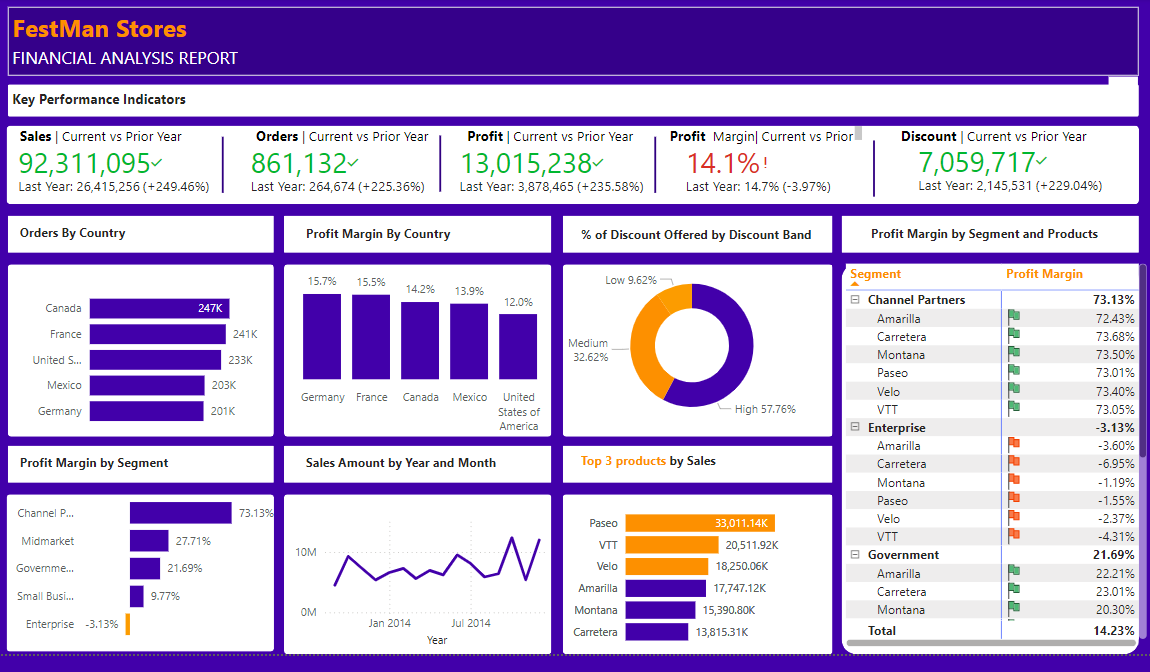

What the dashboard file says about the page in this screenshot:
{"tool":"powerbi","page":{"name":"Page 2","canvas":[1280,720],"ordinal":1},"visuals":[{"type":"shape","box":[924.9,292.3,326.6,428.1],"z":0},{"type":"textbox","box":[10,0,280,280],"z":1000},{"type":"shape","box":[9.6,9.6,1257,75.5],"z":2000},{"type":"shape","box":[9.6,94.7,1255.6,35.7],"z":3000},{"type":"shape","box":[8.2,140,1257,86.4],"z":4000},{"type":"shape","box":[9.6,292.3,292.3,189.4],"z":5000},{"type":"shape","box":[8.2,544.8,293.7,172.9],"z":6000},{"type":"shape","box":[618.9,292.3,296.4,189.4],"z":7000},{"type":"shape","box":[312.9,292.3,293.7,189.4],"z":8000},{"type":"shape","box":[312.9,544.8,293.7,175.6],"z":9000},{"type":"shape","box":[618.9,544.8,296.4,175.6],"z":10000},{"type":"shape","box":[9.6,491.3,292.3,41.2],"z":11000},{"type":"shape","box":[312.9,491.3,293.7,41.2],"z":12000},{"type":"shape","box":[9.6,238.8,292.3,41.2],"z":13000},{"type":"shape","box":[618.9,491.3,296.4,41.2],"z":14000},{"type":"shape","box":[618.9,238.8,296.4,41.2],"z":15000},{"type":"shape","box":[312.9,238.8,293.7,41.2],"z":16000},{"type":"shape","box":[924.9,238.8,340.3,41.2],"z":17000},{"type":"textbox","box":[9.6,9.6,236,48],"z":18000},{"type":"textbox","box":[9.6,48,358.1,48],"z":19000},{"type":"textbox","box":[9.6,96.1,253.9,34.3],"z":20000},{"type":"kpi","fields":{"TrendLine":["Date Table.Year"],"Goal":["Analysis.Sales Amount LY"],"Indicator":["Analysis.Sales Amount"]},"box":[8.2,141.3,255.2,97.4],"z":21000},{"type":"textbox","box":[17.8,135.8,295,32.9],"z":22000},{"type":"shape","box":[171.5,152.3,148.2,61.7],"z":23000},{"type":"kpi","fields":{"TrendLine":["Date Table.Year"],"Goal":["Analysis.Orders LY"],"Indicator":["Analysis.Orders"]},"box":[263.5,141.3,255.2,97.4],"z":24000},{"type":"kpi","fields":{"TrendLine":["Date Table.Year"],"Indicator":["Analysis.Profit"],"Goal":["Analysis.Profit LY"]},"box":[492.6,141.3,255.2,97.4],"z":25000},{"type":"kpi","fields":{"TrendLine":["Date Table.Year"],"Indicator":["Analysis.Profit Margin"],"Goal":["Analysis.Profit Margin LY"]},"box":[741,141.3,255.2,97.4],"z":26000},{"type":"kpi","fields":{"TrendLine":["Date Table.Year"],"Indicator":["Analysis.Discount offered"],"Goal":["Analysis.Discount Offered LY"]},"box":[996.2,140,255.2,97.4],"z":27000},{"type":"textbox","box":[277.2,135.8,295,32.9],"z":28000},{"type":"textbox","box":[509.1,135.8,211.3,32.9],"z":29000},{"type":"textbox","box":[985.3,135.8,295,32.9],"z":31000},{"type":"shape","box":[410.3,150.9,148.2,61.7],"z":32000},{"type":"shape","box":[646.3,152.3,148.2,61.7],"z":33000},{"type":"shape","box":[886.5,156.4,148.2,61.7],"z":34000},{"type":"barChart","fields":{"Category":["financials.Country"],"Y":["Analysis.Orders"]},"box":[17.8,306,274.4,175.6],"z":35000},{"type":"textbox","box":[17.8,242.9,253.9,34.3],"z":36000},{"type":"textbox","box":[952.3,244.3,284,34.3],"z":37000},{"type":"textbox","box":[332.1,244.3,253.9,34.3],"z":38000},{"type":"clusteredColumnChart","fields":{"Y":["Analysis.Profit Margin"],"Category":["financials.Country"]},"box":[300.5,286.8,318.4,199],"z":39000},{"type":"donutChart","fields":{"Category":["financials.Discount Band"],"Y":["Analysis.Discount offered"]},"box":[606.5,286.8,308.7,189.4],"z":40000},{"type":"barChart","fields":{"Category":["financials.Segment"],"Y":["Analysis.Profit Margin"]},"box":[1.4,528.3,308.7,189.4],"z":41000},{"type":"lineChart","fields":{"Category":["Date Table.Date.Variation.Date Hierarchy.Year","Date Table.Date.Variation.Date Hierarchy.Month"],"Y":["Analysis.Sales Amount"]},"box":[319.7,561.2,300.5,156.4],"z":42000},{"type":"barChart","fields":{"Y":["Analysis.Sales Amount"],"Category":["financials.Product"]},"box":[620.2,544.8,295,175.6],"z":43000},{"type":"textbox","box":[332.1,495.4,253.9,34.3],"z":44000},{"type":"textbox","box":[17.8,495.4,253.9,34.3],"z":45000},{"type":"textbox","box":[634,494,253.9,34.3],"z":46000},{"type":"pivotTable","fields":{"Values":["Analysis.Profit Margin"],"Rows":["financials.Segment","financials.Product"]},"box":[924.9,286.8,340.3,430.9],"z":47000},{"type":"barChart","fields":{"Y":["Analysis.Sales Amount"],"Category":["financials.Product"]},"box":[620.2,544.4,295,175.6],"z":48000},{"type":"textbox","box":[634,245.6,269,34.3],"z":49000},{"type":"textbox","box":[731.4,135.8,220.9,32.9],"z":49001}]}

Visuals, with their boxes in screenshot pixels (x1, y1, x2, y2):
shape: {"x1": 841, "y1": 260, "x2": 1141, "y2": 653}
textbox: {"x1": 0, "y1": 0, "x2": 257, "y2": 248}
shape: {"x1": 0, "y1": 0, "x2": 1149, "y2": 69}
shape: {"x1": 0, "y1": 78, "x2": 1149, "y2": 111}
shape: {"x1": 0, "y1": 120, "x2": 1149, "y2": 199}
shape: {"x1": 0, "y1": 260, "x2": 268, "y2": 433}
shape: {"x1": 0, "y1": 491, "x2": 268, "y2": 650}
shape: {"x1": 560, "y1": 260, "x2": 832, "y2": 433}
shape: {"x1": 278, "y1": 260, "x2": 548, "y2": 433}
shape: {"x1": 278, "y1": 491, "x2": 548, "y2": 653}
shape: {"x1": 560, "y1": 491, "x2": 832, "y2": 653}
shape: {"x1": 0, "y1": 442, "x2": 268, "y2": 480}
shape: {"x1": 278, "y1": 442, "x2": 548, "y2": 480}
shape: {"x1": 0, "y1": 210, "x2": 268, "y2": 248}
shape: {"x1": 560, "y1": 442, "x2": 832, "y2": 480}
shape: {"x1": 560, "y1": 210, "x2": 832, "y2": 248}
shape: {"x1": 278, "y1": 210, "x2": 548, "y2": 248}
shape: {"x1": 841, "y1": 210, "x2": 1149, "y2": 248}
textbox: {"x1": 0, "y1": 0, "x2": 217, "y2": 44}
textbox: {"x1": 0, "y1": 35, "x2": 329, "y2": 79}
textbox: {"x1": 0, "y1": 79, "x2": 233, "y2": 111}
kpi - Date Table.Year x Analysis.Sales Amount LY: {"x1": 0, "y1": 121, "x2": 233, "y2": 210}
textbox: {"x1": 7, "y1": 116, "x2": 278, "y2": 146}
shape: {"x1": 149, "y1": 131, "x2": 285, "y2": 188}
kpi - Date Table.Year x Analysis.Orders LY: {"x1": 233, "y1": 121, "x2": 467, "y2": 210}
kpi - Date Table.Year x Analysis.Profit: {"x1": 444, "y1": 121, "x2": 678, "y2": 210}
kpi - Date Table.Year x Analysis.Profit Margin: {"x1": 672, "y1": 121, "x2": 906, "y2": 210}
kpi - Date Table.Year x Analysis.Discount offered: {"x1": 906, "y1": 120, "x2": 1141, "y2": 209}
textbox: {"x1": 246, "y1": 116, "x2": 517, "y2": 146}
textbox: {"x1": 459, "y1": 116, "x2": 653, "y2": 146}
textbox: {"x1": 896, "y1": 116, "x2": 1149, "y2": 146}
shape: {"x1": 368, "y1": 130, "x2": 504, "y2": 186}
shape: {"x1": 585, "y1": 131, "x2": 721, "y2": 188}
shape: {"x1": 805, "y1": 135, "x2": 941, "y2": 191}
barChart - financials.Country x Analysis.Orders: {"x1": 7, "y1": 272, "x2": 259, "y2": 433}
textbox: {"x1": 7, "y1": 214, "x2": 241, "y2": 246}
textbox: {"x1": 866, "y1": 215, "x2": 1127, "y2": 247}
textbox: {"x1": 296, "y1": 215, "x2": 529, "y2": 247}
clusteredColumnChart - Analysis.Profit Margin x financials.Country: {"x1": 267, "y1": 254, "x2": 560, "y2": 437}
donutChart - financials.Discount Band x Analysis.Discount offered: {"x1": 548, "y1": 254, "x2": 832, "y2": 428}
barChart - financials.Segment x Analysis.Profit Margin: {"x1": 0, "y1": 476, "x2": 276, "y2": 650}
lineChart - Date Table.Date.Variation.Date Hierarchy.Year x Date Table.Date.Variation.Date Hierarchy.Month: {"x1": 285, "y1": 507, "x2": 561, "y2": 650}
barChart - Analysis.Sales Amount x financials.Product: {"x1": 561, "y1": 491, "x2": 832, "y2": 653}
textbox: {"x1": 296, "y1": 446, "x2": 529, "y2": 478}
textbox: {"x1": 7, "y1": 446, "x2": 241, "y2": 478}
textbox: {"x1": 573, "y1": 445, "x2": 807, "y2": 476}
pivotTable - Analysis.Profit Margin x financials.Segment: {"x1": 841, "y1": 254, "x2": 1149, "y2": 650}
barChart - Analysis.Sales Amount x financials.Product: {"x1": 561, "y1": 491, "x2": 832, "y2": 652}
textbox: {"x1": 573, "y1": 217, "x2": 820, "y2": 248}
textbox: {"x1": 663, "y1": 116, "x2": 866, "y2": 146}
